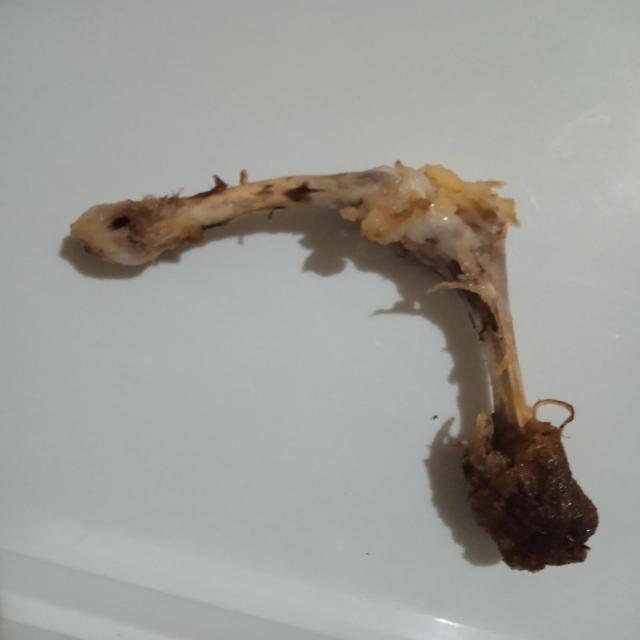bone: (56, 148, 640, 580)
